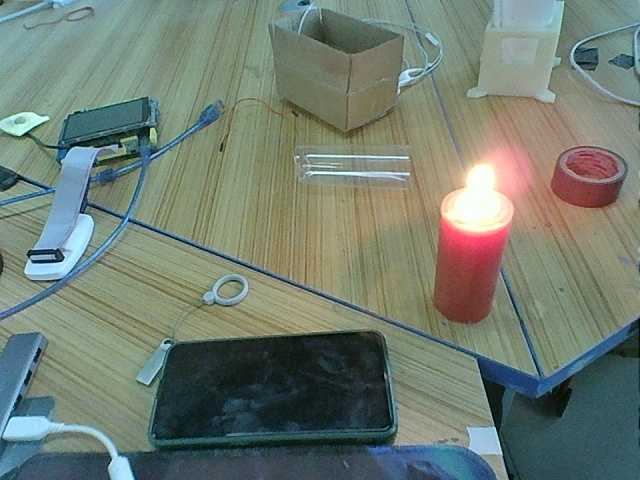candle: (437, 217, 508, 323)
fire: (436, 160, 514, 229)
